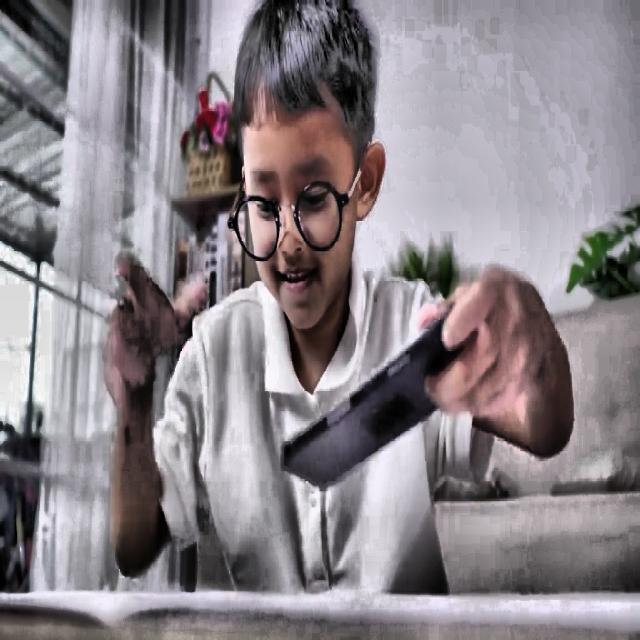Phone: (284, 306, 472, 488)
